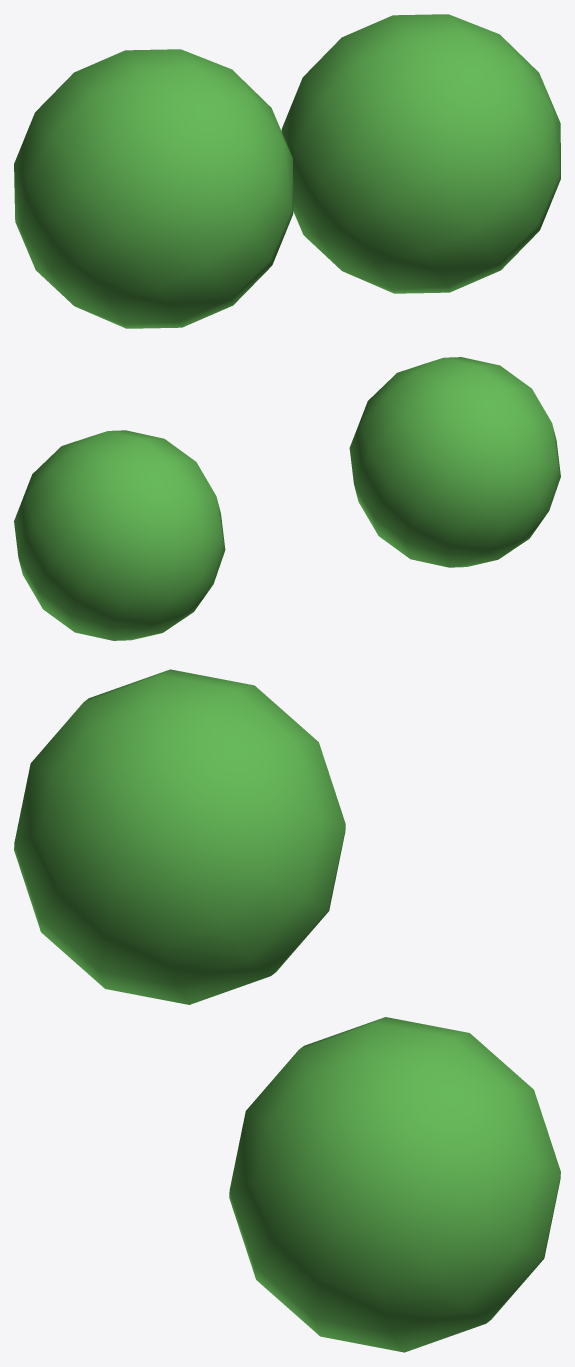
The model's file is linfatico-subpyloric-nodes.glb.
The picture shows the model from 3 angles, top to bottom: view 1: azimuth 30°, elevation 25°; view 2: azimuth 150°, elevation 25°; view 3: azimuth 270°, elevation 25°; orthographic projection. The views are drawn at different scales.
Visible parts, largest first — view 1: (Subpyloric nodes); view 2: (Subpyloric nodes); view 3: (Subpyloric nodes).
Part boxes in pixels (x1,y1,x2,y2): (Subpyloric nodes): [14, 14, 560, 328]; (Subpyloric nodes): [14, 357, 560, 640]; (Subpyloric nodes): [14, 669, 560, 1352].
Bounding box in the file's own units: 0.0063 × 0.00374 × 0.0042.
